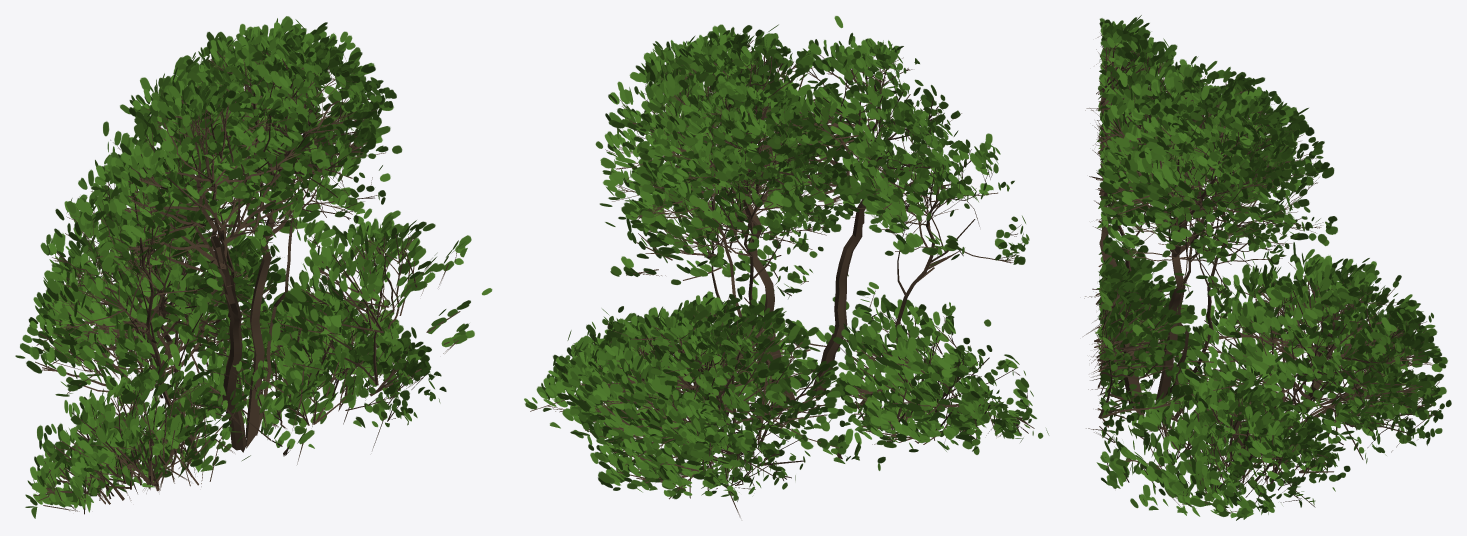
3 renders of one model, left to right at view 1: azimuth 30°, elevation 25°; view 2: azimuth 150°, elevation 25°; view 3: azimuth 270°, elevation 25°, orthographic. The views are drawn at different scales.
Visible parts, largest first — view 1: oak 01.001_trunk_Mat.001_0.299; view 2: oak 01.001_trunk_Mat.001_0.299; view 3: oak 01.001_trunk_Mat.001_0.299.
Part boxes in pixels (bbox=[...]): oak 01.001_trunk_Mat.001_0.299: bbox=[15, 16, 492, 518]; oak 01.001_trunk_Mat.001_0.299: bbox=[524, 16, 1049, 517]; oak 01.001_trunk_Mat.001_0.299: bbox=[1083, 15, 1451, 520].
Bounding box in the file's own units: 4.79 × 4.12 × 3.45.
2 materials, 1 textured.
